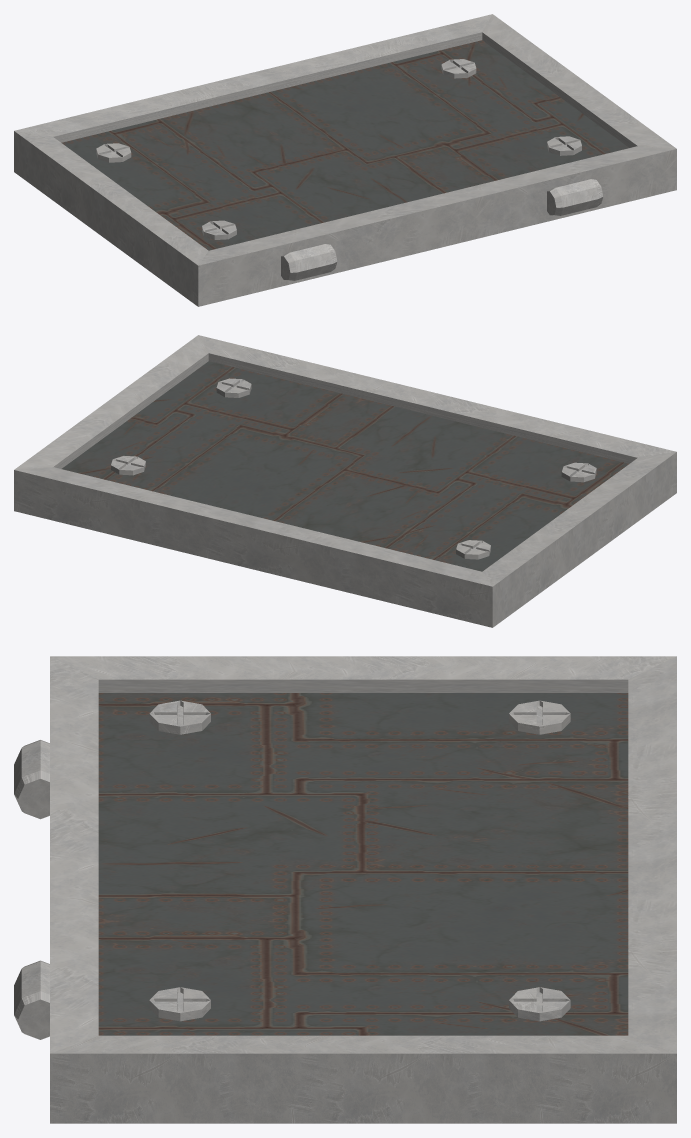
File: Vents_cote_plain.fbx
3 renders of one model, top to bottom at view 1: azimuth 30°, elevation 25°; view 2: azimuth 150°, elevation 25°; view 3: azimuth 270°, elevation 25°, orthographic. The views are drawn at different scales.
Parts seen in each view (by area): view 1: Vent_cote_grid; view 2: Vent_cote_grid; view 3: Vent_cote_grid.
Part boxes in pixels (left/top/right/bottom): Vent_cote_grid: left=14, top=14, right=676, bottom=306; Vent_cote_grid: left=14, top=335, right=676, bottom=627; Vent_cote_grid: left=14, top=656, right=676, bottom=1123.
Size of the model in its own units: 1.5 by 0.1234 by 1.06.
Materials: 2 (2 with a texture image).
